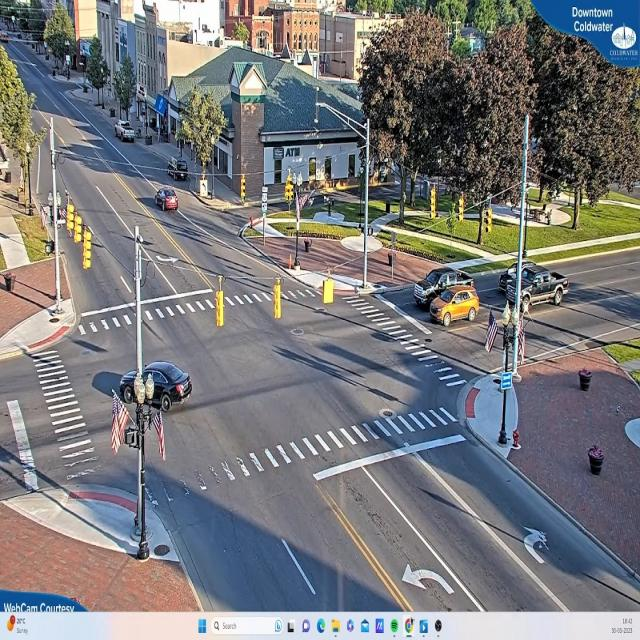car: (118, 361, 194, 408), (508, 266, 567, 310), (430, 287, 480, 331), (414, 268, 454, 304), (155, 187, 179, 213), (115, 123, 136, 143)
